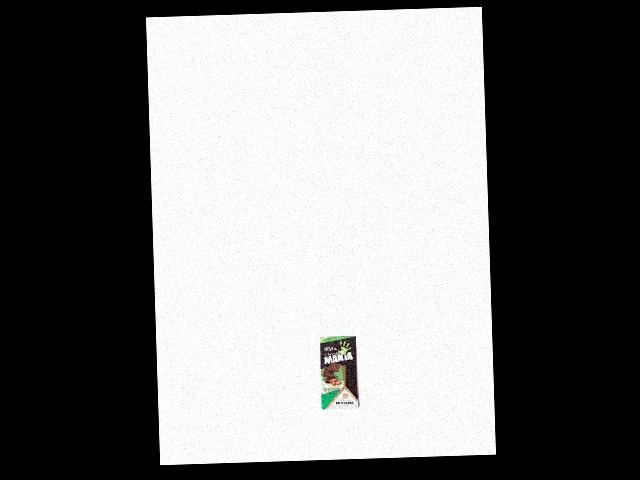chocolate: (317, 334, 360, 411)
